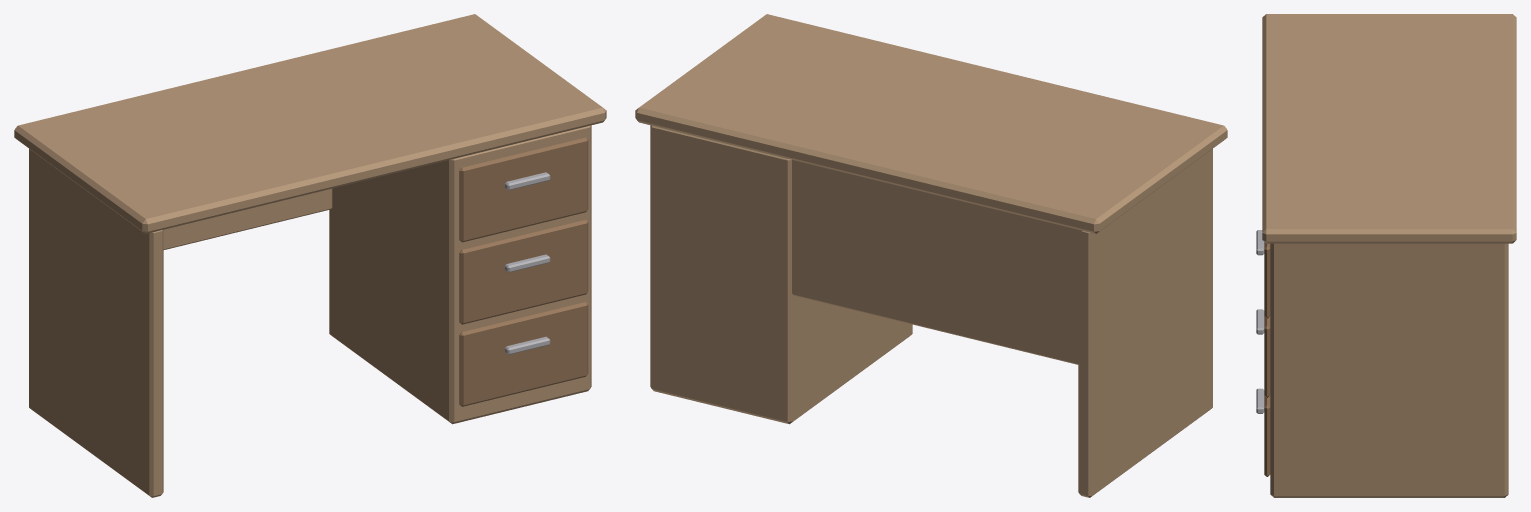
File: desk.fbx
3 views of the same model, side by side, from view 1: azimuth 30°, elevation 25°; view 2: azimuth 150°, elevation 25°; view 3: azimuth 270°, elevation 25° (orthographic). The views are drawn at different scales.
Visible parts, largest first — view 1: Body, Drawer_0, Drawer_1, Drawer_2; view 2: Body; view 3: Body, Drawer_1, Drawer_0, Drawer_2.
Part boxes in pixels (bbox=[...]): Body: bbox=[14, 14, 606, 497]; Drawer_0: bbox=[459, 302, 588, 406]; Drawer_1: bbox=[459, 219, 588, 324]; Drawer_2: bbox=[459, 137, 588, 242]; Body: bbox=[635, 14, 1227, 497]; Body: bbox=[1262, 14, 1516, 497]; Drawer_1: bbox=[1256, 309, 1270, 397]; Drawer_0: bbox=[1256, 388, 1270, 476]; Drawer_2: bbox=[1256, 230, 1270, 318].
Size of the model in its own units: 1.3 by 0.76 by 0.655.
